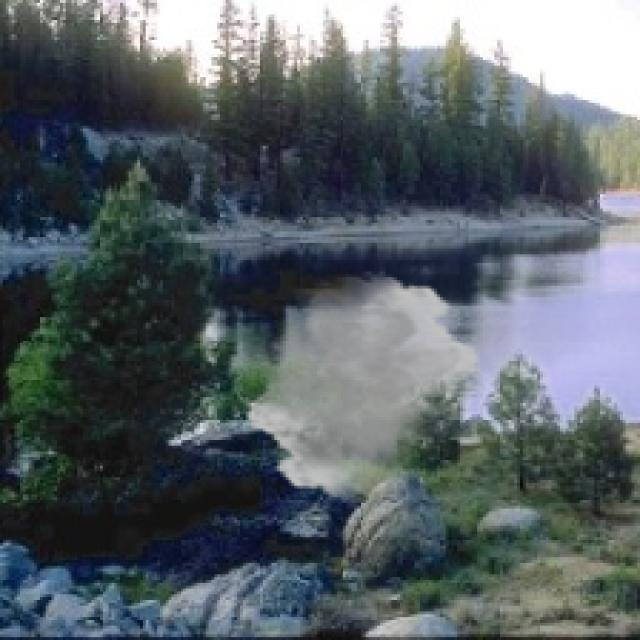Smoke: (243, 271, 483, 503)
